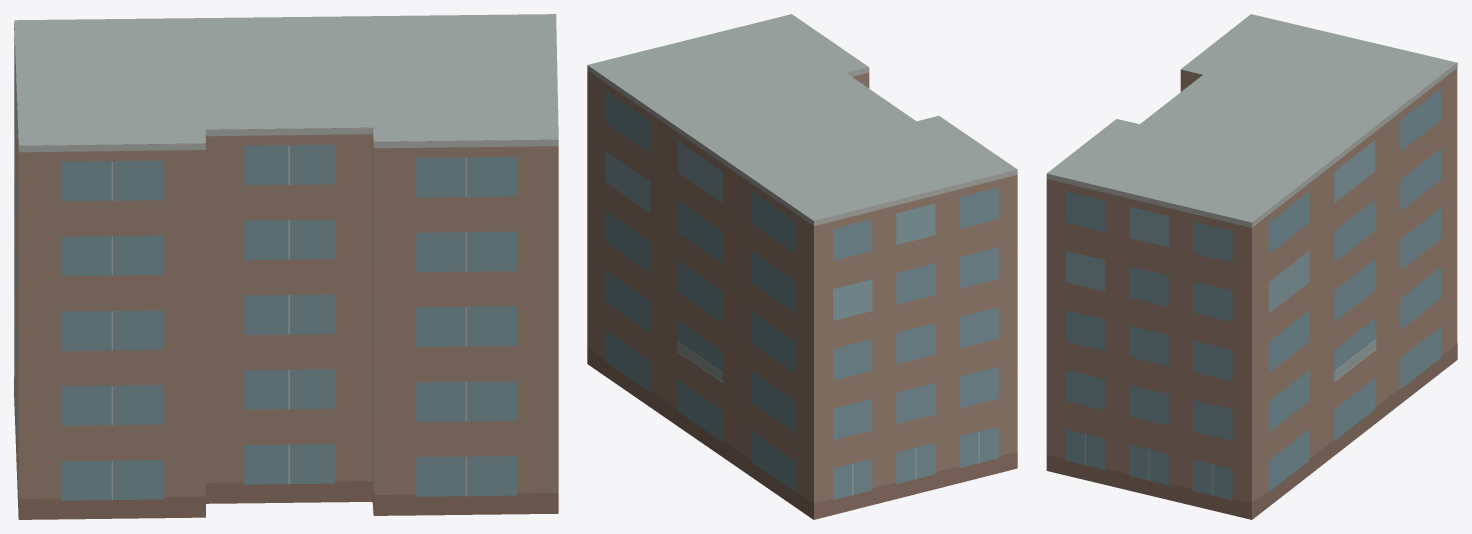
File: survey-upis-33009207.glb
3 views of the same model, side by side, from view 1: azimuth 30°, elevation 25°; view 2: azimuth 150°, elevation 25°; view 3: azimuth 270°, elevation 25° (orthographic). The views are drawn at different scales.
Visible parts, largest first — view 1: survey-upis-33009207.tmp; view 2: survey-upis-33009207.tmp; view 3: survey-upis-33009207.tmp.
Part boxes in pixels (<box>): survey-upis-33009207.tmp: <box>14,14,558,519</box>; survey-upis-33009207.tmp: <box>587,14,1017,519</box>; survey-upis-33009207.tmp: <box>1046,14,1457,519</box>.
Bounding box in the file's own units: 20.78 × 13.8 × 17.29.
